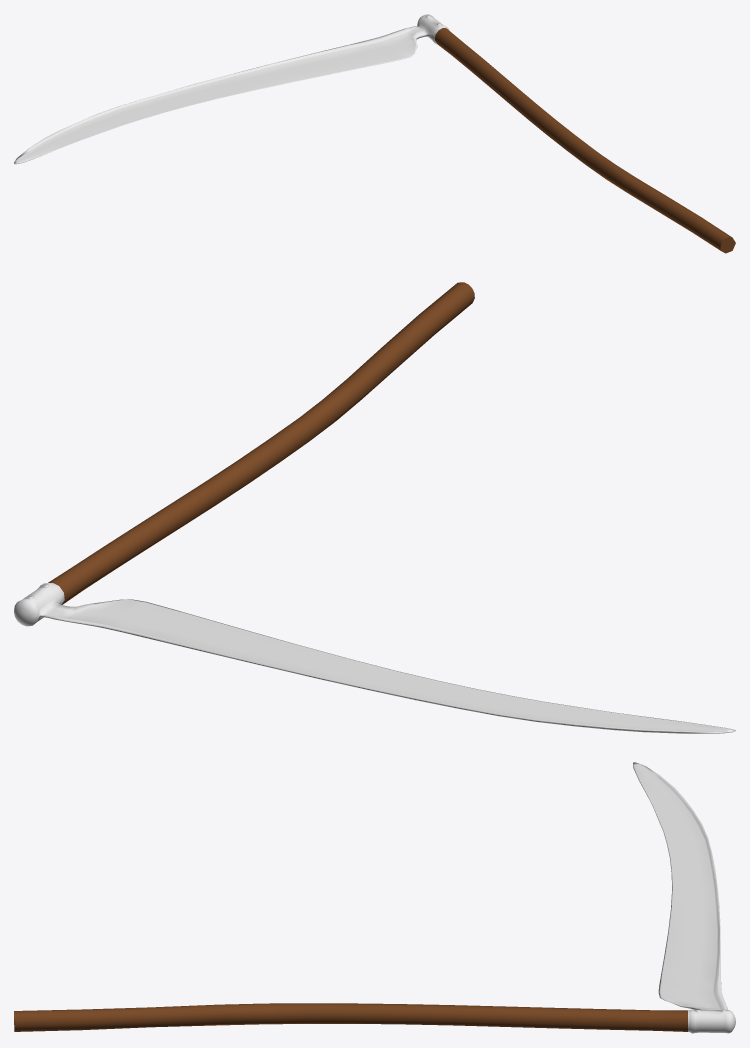
The model's file is Edited Scythe.fbx.
The picture shows the model from 3 angles, top to bottom: view 1: azimuth 30°, elevation 25°; view 2: azimuth 150°, elevation 25°; view 3: azimuth 270°, elevation 25°; orthographic projection. The views are drawn at different scales.
Parts seen in each view (by area): view 1: Scythe; view 2: Scythe; view 3: Scythe.
Boxes of the visible parts, bbox=[...] form: Scythe: bbox=[14, 14, 735, 253]; Scythe: bbox=[14, 282, 735, 733]; Scythe: bbox=[14, 762, 735, 1033].
Size of the model in its own units: 6646 by 264 by 7638.
